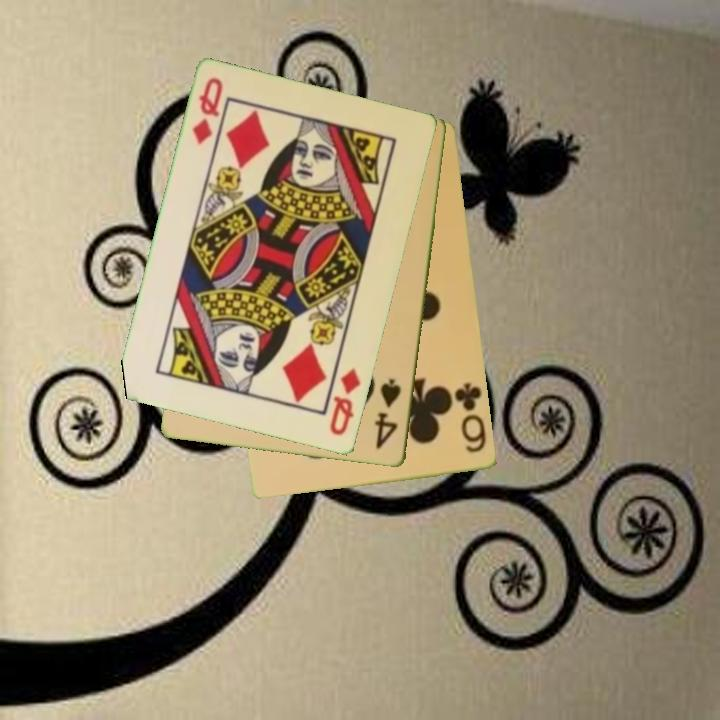4s: (372, 375, 404, 453)
6c: (451, 379, 490, 456)
Qd: (326, 364, 364, 439), (189, 74, 226, 148)
